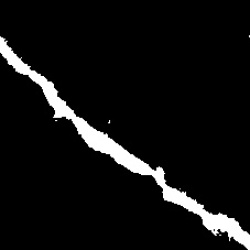crack: (1, 39, 248, 247)
